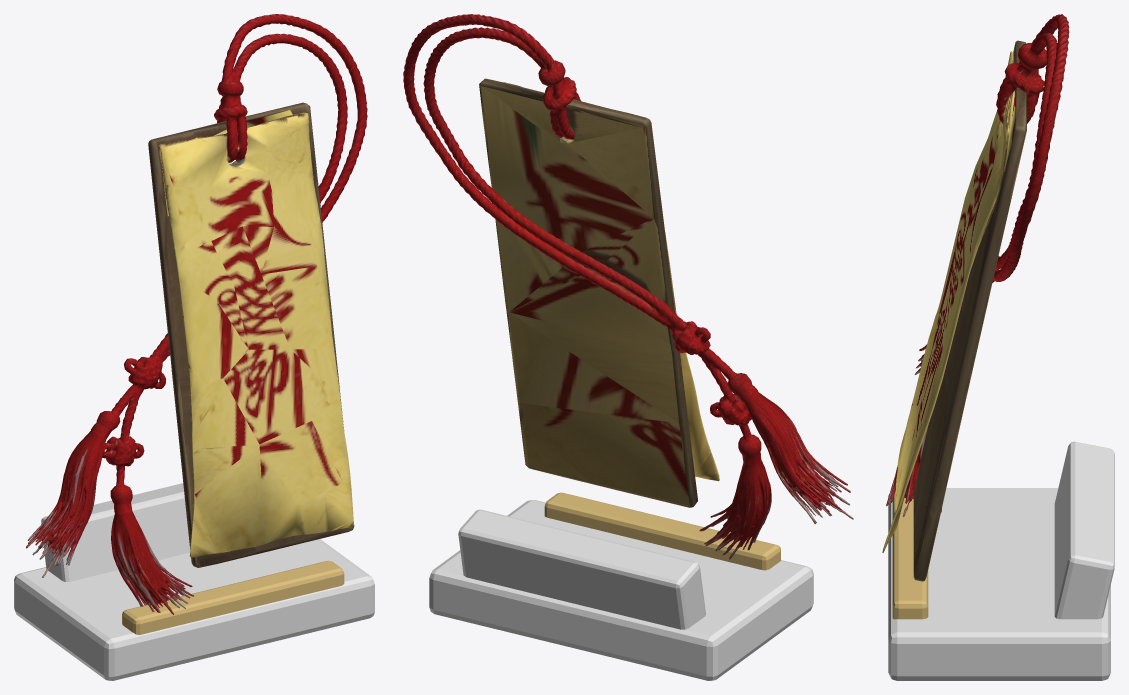
File: Item_V09.fbx
3 views of the same model, side by side, from view 1: azimuth 30°, elevation 25°; view 2: azimuth 150°, elevation 25°; view 3: azimuth 270°, elevation 25° (orthographic). The views are drawn at different scales.
Visible parts, largest first — view 1: Body_V09, StandBase, StandBackLip, StandFrontLip; view 2: Body_V09, StandBase, StandBackLip, StandFrontLip; view 3: StandBase, Body_V09, StandBackLip, StandFrontLip.
Part boxes in pixels (bbox=[...]): Body_V09: bbox=[26, 14, 367, 614]; StandBase: bbox=[14, 539, 374, 680]; StandBackLip: bbox=[41, 483, 190, 582]; StandFrontLip: bbox=[122, 560, 344, 634]; Body_V09: bbox=[403, 14, 853, 559]; StandBase: bbox=[429, 500, 813, 680]; StandBackLip: bbox=[458, 509, 705, 629]; StandFrontLip: bbox=[544, 492, 780, 570]; StandBase: bbox=[888, 488, 1110, 680]; Body_V09: bbox=[882, 14, 1069, 581]; StandBackLip: bbox=[1054, 441, 1114, 619]; StandFrontLip: bbox=[892, 490, 928, 619].
Size of the model in its own units: 0.1678 by 0.238 by 0.0783.
